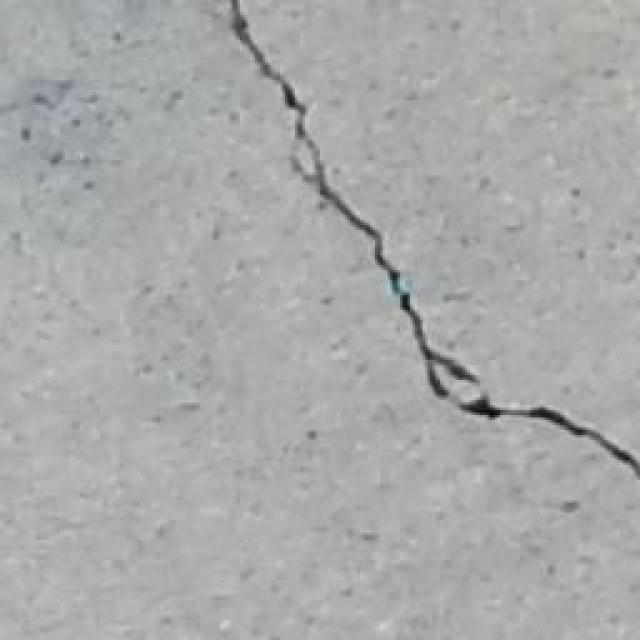concrete-crack: (230, 0, 640, 482)
